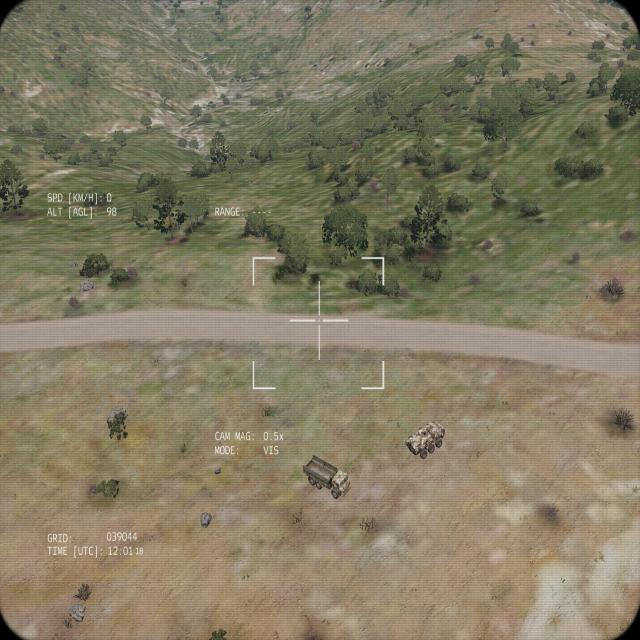apc: (404, 421, 446, 458)
truck: (301, 454, 351, 499)
